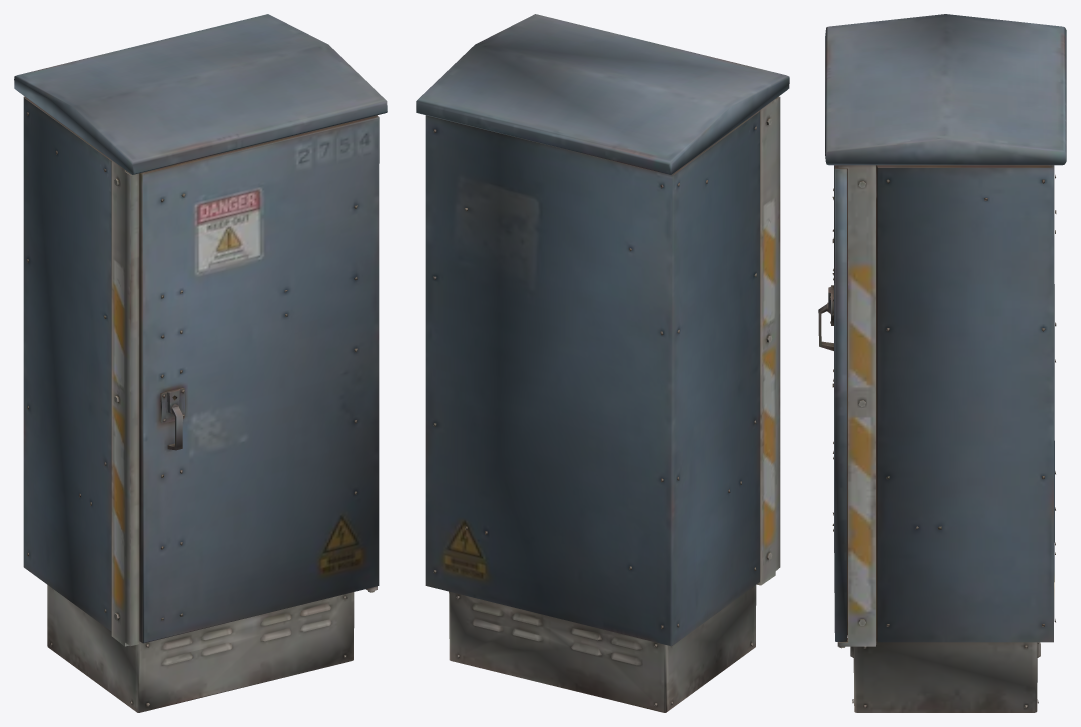
The model's file is utility_box_01.glb.
The picture shows the model from 3 angles, left to right: view 1: azimuth 30°, elevation 25°; view 2: azimuth 150°, elevation 25°; view 3: azimuth 270°, elevation 25°; orthographic projection.
Visible parts, largest first — view 1: utility_box_01_box; view 2: utility_box_01_box; view 3: utility_box_01_box.
Boxes of the visible parts, box(x1,y1,x2,y2) form: utility_box_01_box: box(14, 14, 387, 712); utility_box_01_box: box(416, 14, 789, 712); utility_box_01_box: box(818, 14, 1066, 712).
Bounding box in the file's own units: 0.5182 × 1.12 × 0.4312.
1 material, 1 textured.
